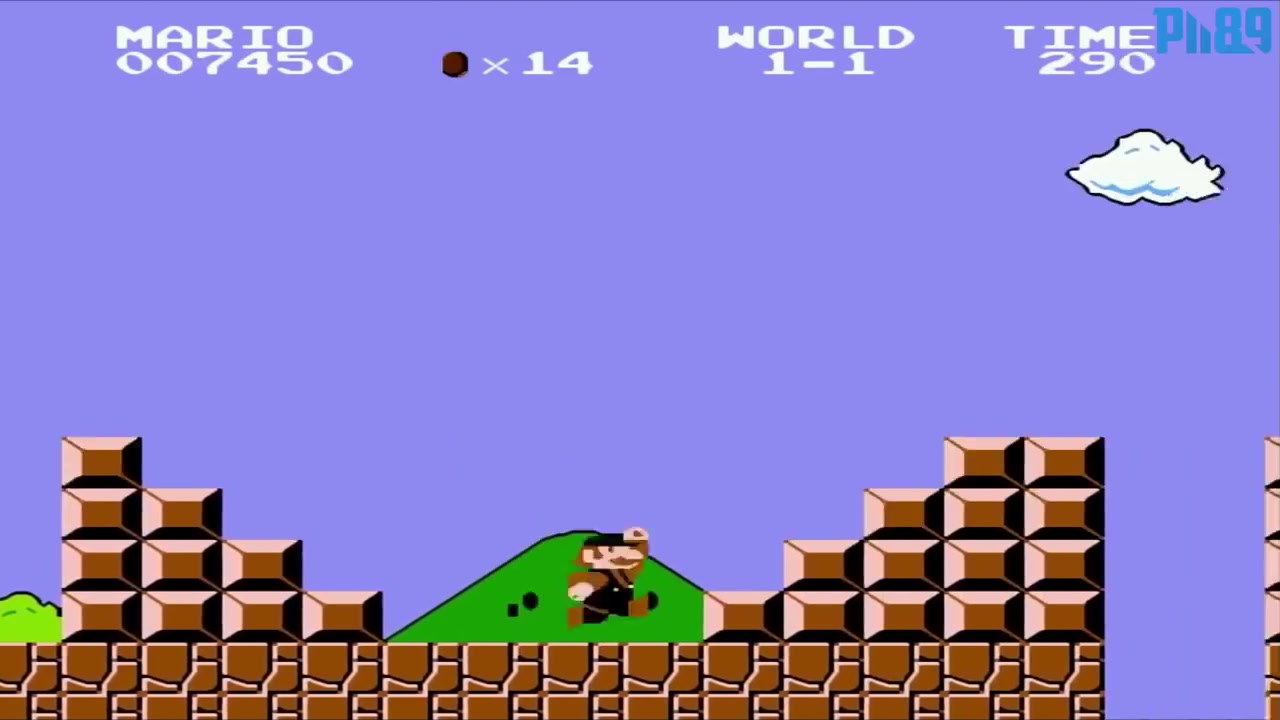mario: (564, 519, 663, 630)
